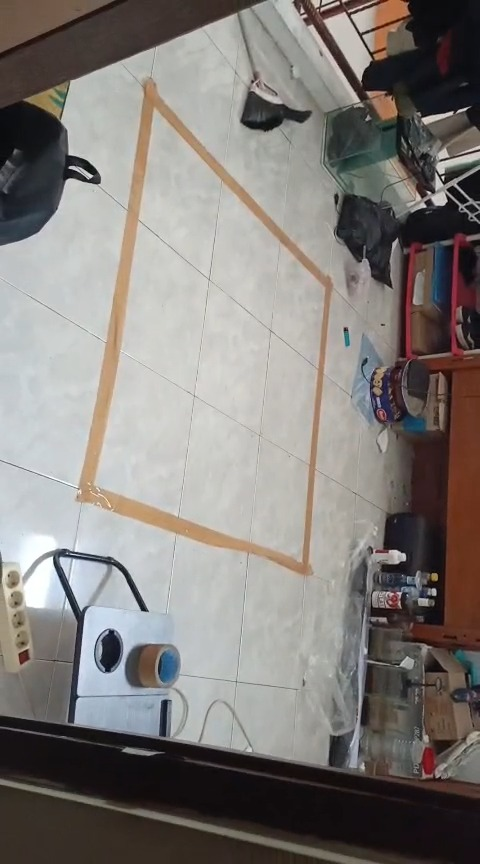floor marking: (78, 78, 332, 574)
